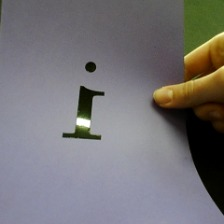violet1: (54, 57, 113, 144)
